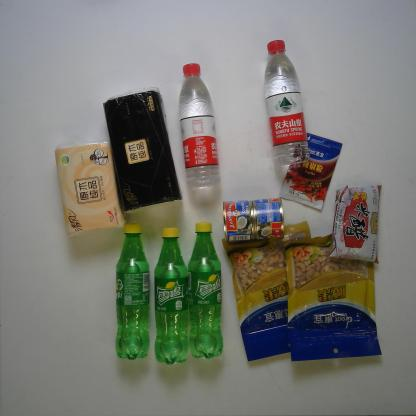Canned Food: (222, 199, 256, 243), (252, 197, 285, 241)
Dried Fruit: (220, 220, 312, 364), (283, 232, 383, 362)
Drink: (262, 38, 311, 166), (177, 61, 222, 190), (113, 221, 151, 362), (187, 220, 224, 361), (153, 226, 190, 366)
Seasoner: (280, 132, 343, 212), (327, 184, 383, 264)
Tissue: (102, 86, 185, 214), (54, 136, 130, 238)
